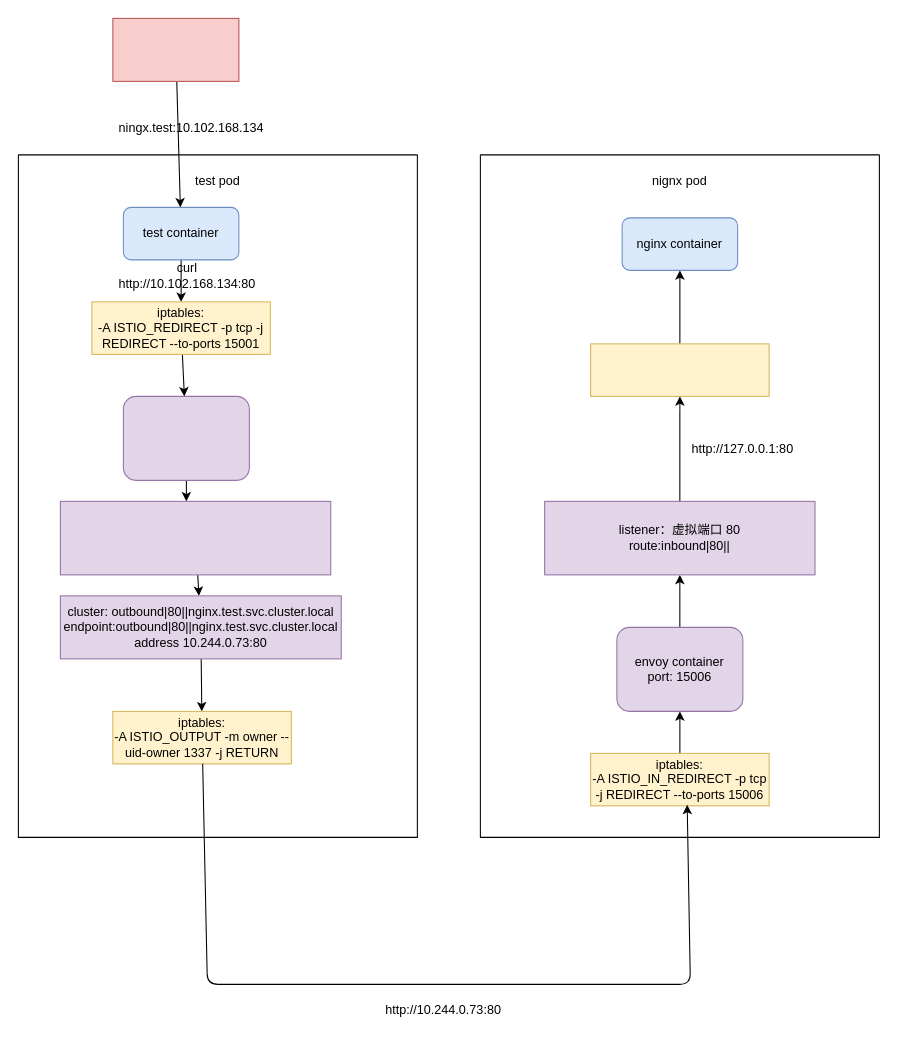
Image size: 898x1045. Some labels were removed from this diagram. Here are the shapes that lost their labels. From the top down, the centre of each, then its label:
point 175,49: coredns
point 679,369: iptables: -A ISTIO_OUTPUT -m owner --gid-owner 1337 -j RETURN
point 185,437: envoy container port: 15001
point 195,537: listener：虚拟端口 80 route:nginx.test.svc.cluster.local match /
